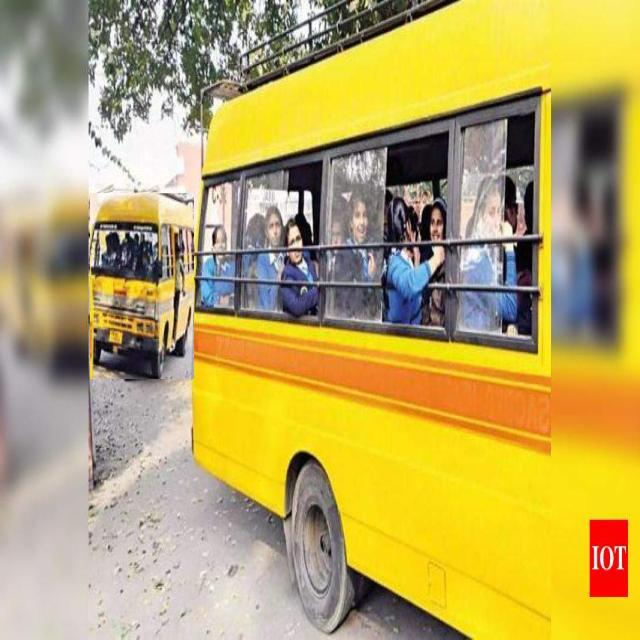bus: (191, 2, 552, 637), (90, 193, 194, 379)
